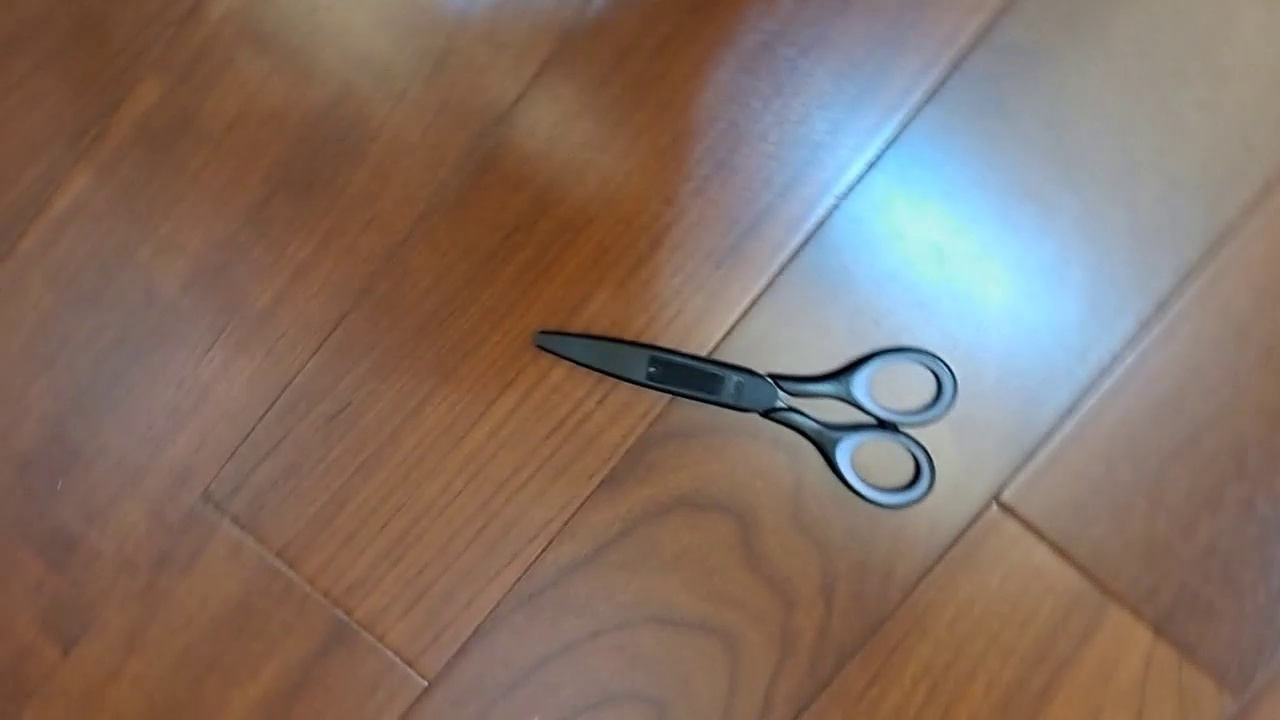scissors: (532, 328, 959, 510)
